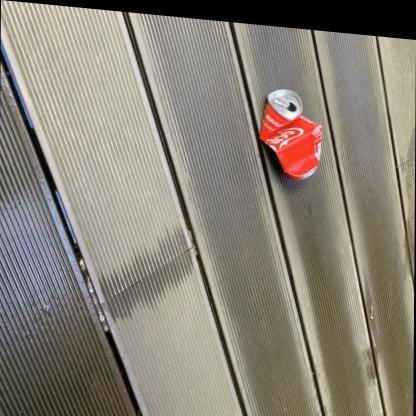trash: (260, 89, 321, 179)
